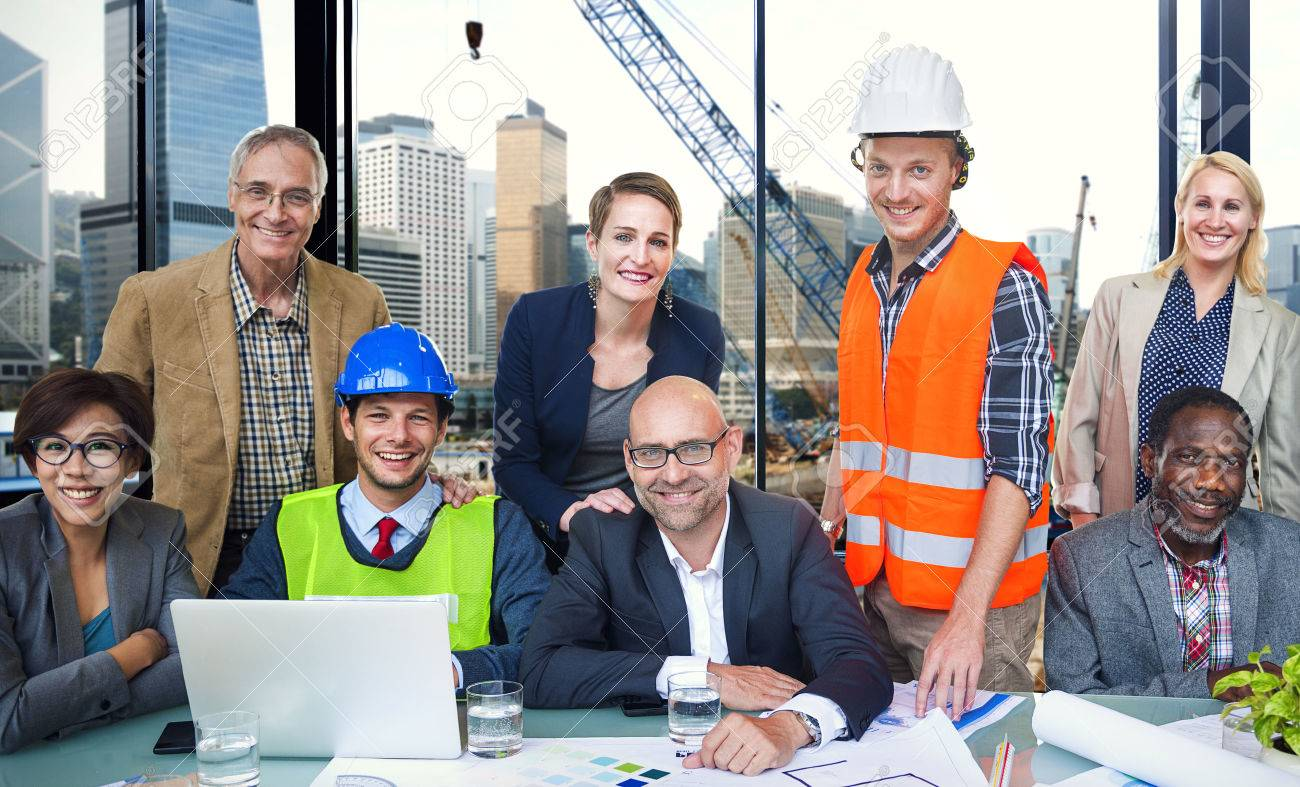casco: (844, 41, 978, 138), (331, 321, 458, 401)
